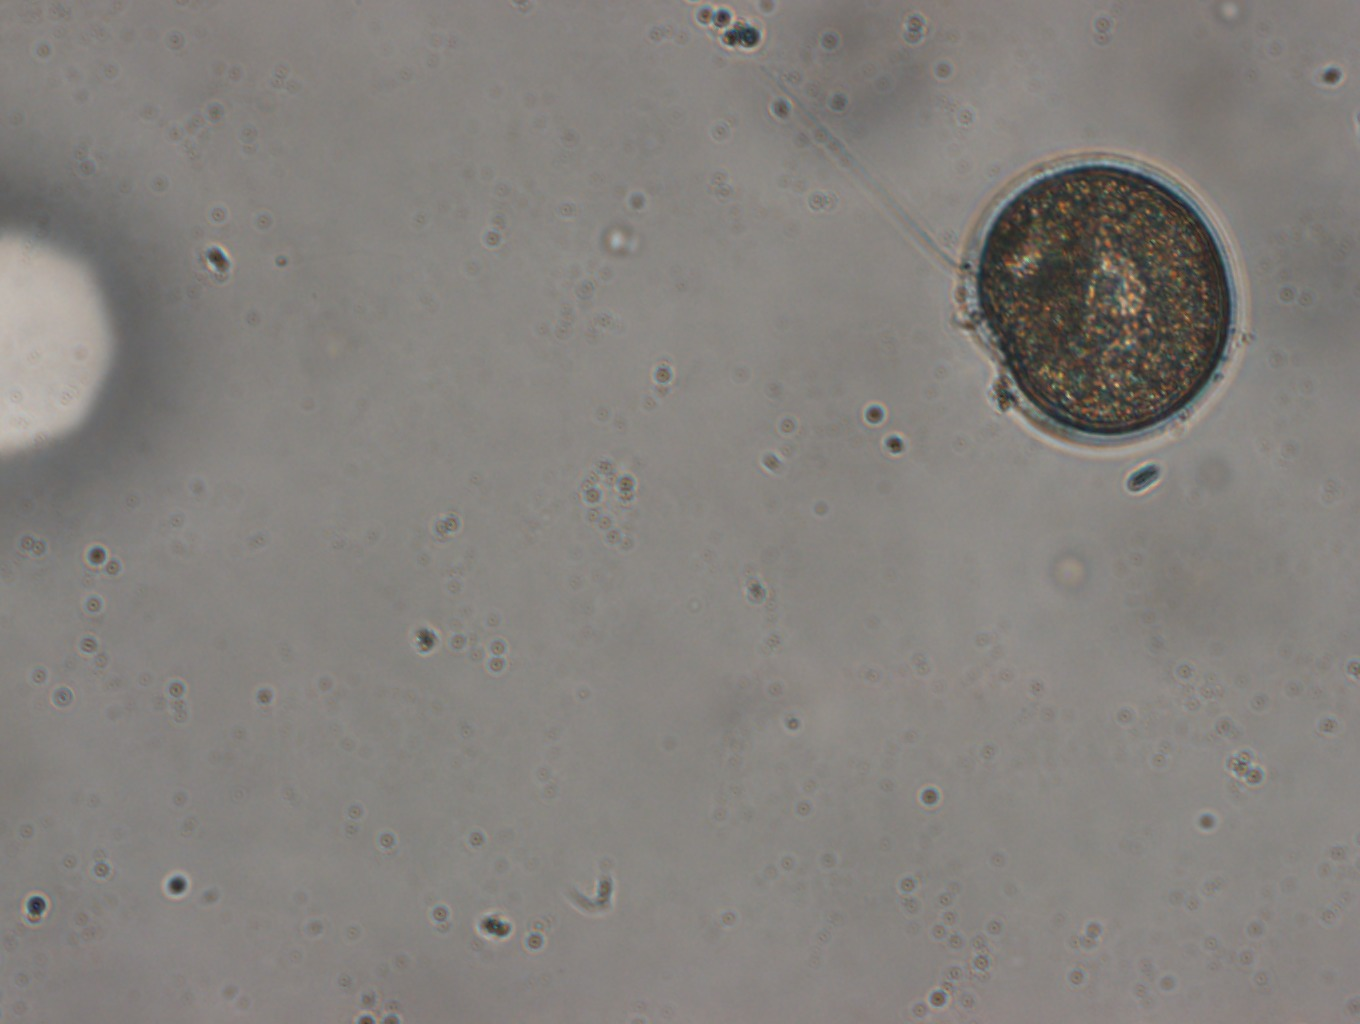coscinodiscus: (955, 150, 1239, 447)
